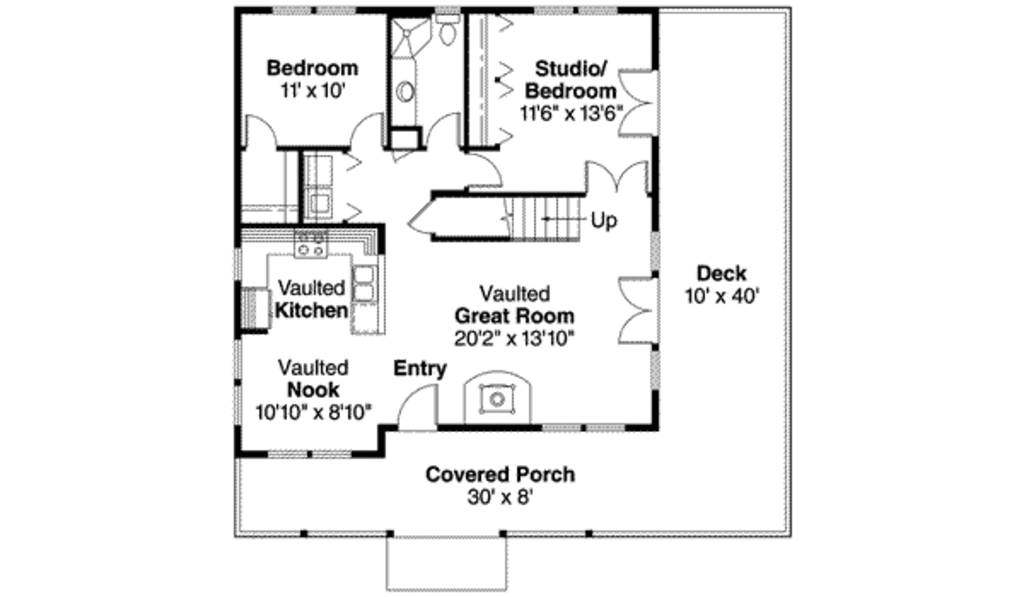door: (388, 373, 455, 439), (617, 61, 666, 150), (612, 262, 662, 348), (580, 155, 653, 200), (461, 142, 511, 196), (242, 112, 289, 154), (344, 113, 389, 155), (424, 111, 465, 155)
large_sink: (434, 1, 463, 50)
small_sink: (386, 66, 423, 120)
stairs: (463, 191, 586, 247)
twin_sink: (341, 262, 395, 313)
window: (226, 335, 253, 429), (535, 414, 632, 439), (265, 442, 355, 460), (270, 1, 359, 17), (535, 2, 622, 16), (648, 340, 668, 394), (232, 249, 249, 284)
